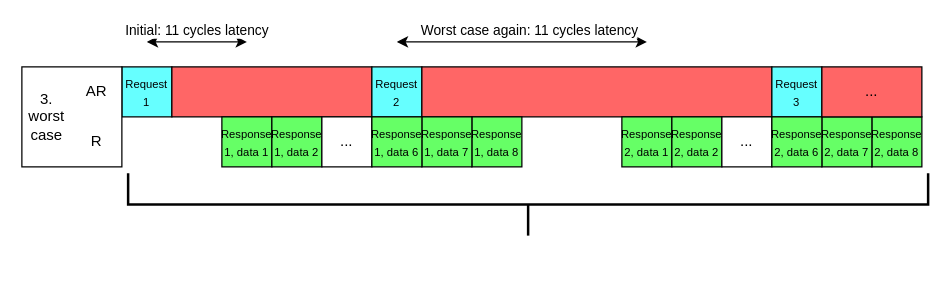
This 951x281 diagram has some shape labels left out. Here are the shapes that lost their labels. From the top down, the centre of each, then its label:
[271,91]: 16 Stall cycles
[596,91]: 11 Stall cycles
[527,203]: Worst case: ~8% utilization (assuming no refresh cycles, 12.5% hit rate)
